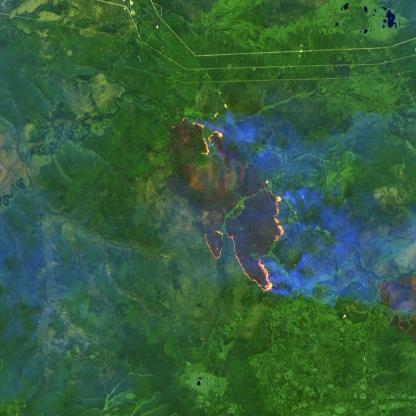fire: (202, 188, 287, 296), (189, 115, 227, 162)
